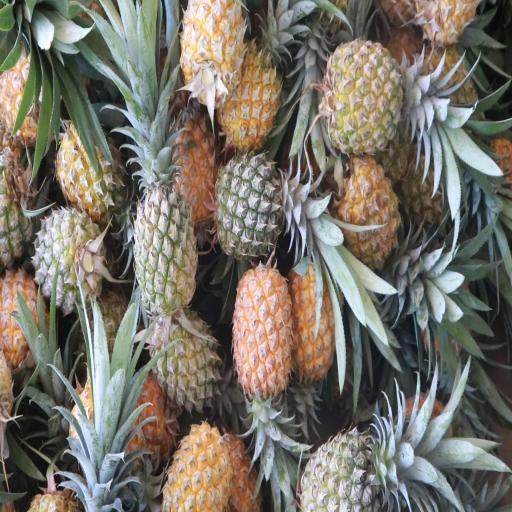------------------------------: (132, 146, 198, 310), (327, 37, 418, 153), (150, 313, 222, 416), (54, 122, 123, 218)
Pineapple - v8 v1: (232, 260, 297, 402), (160, 96, 222, 222), (339, 157, 406, 267), (221, 34, 284, 143), (292, 260, 346, 384), (180, 0, 247, 99), (166, 432, 236, 512)
